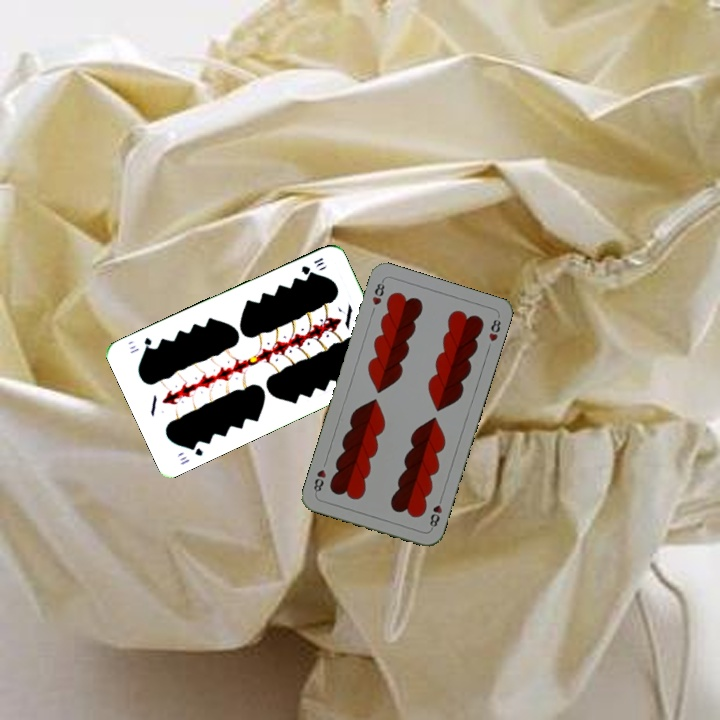G10: (175, 440, 206, 468), (297, 253, 326, 278)
H8: (425, 492, 445, 532), (368, 276, 387, 308)
